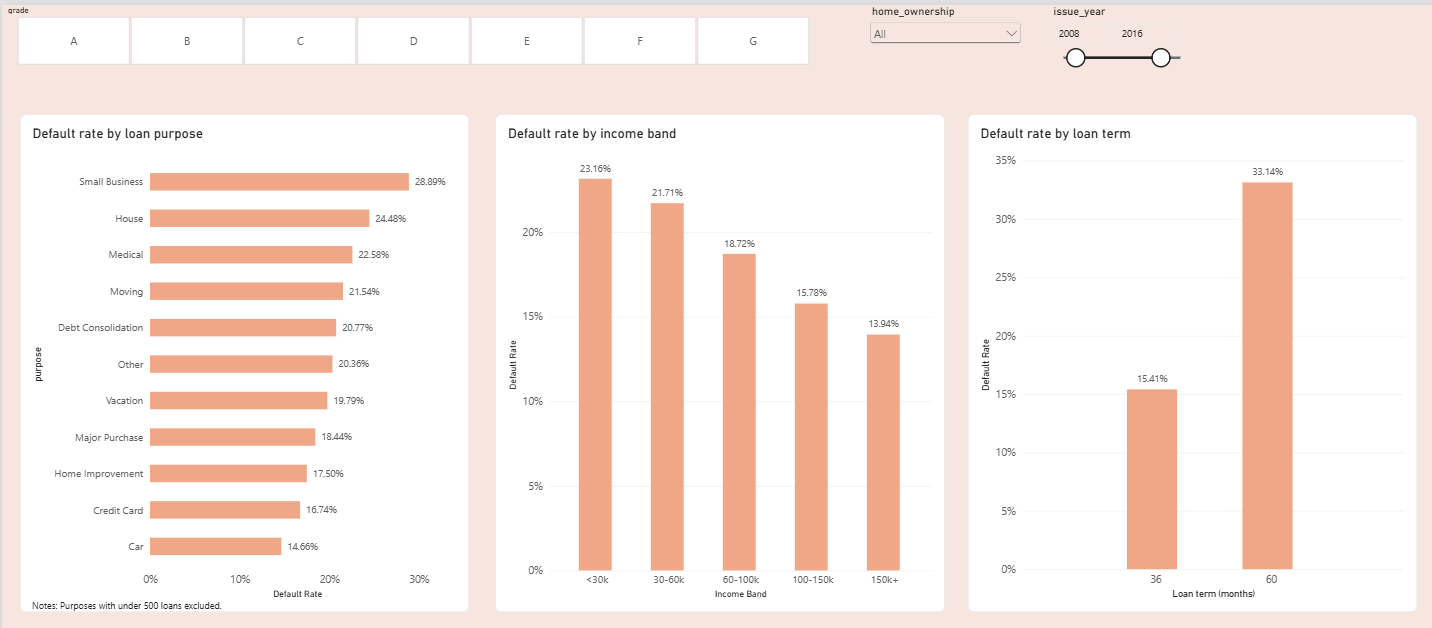

The page's visual inventory and layout, read from the dashboard file:
{"tool":"powerbi","page":{"name":"Who Defaults","canvas":[1920,1080],"ordinal":1},"visuals":[{"type":"clusteredBarChart","title":"Default rate by loan purpose","fields":{"Category":["loans.purpose"],"Y":["loans.Default Rate"]},"box":[23.9,145.5,598.9,663.3],"z":0},{"type":"clusteredColumnChart","title":"Default rate by income band","fields":{"Category":["loans.income_band"],"Y":["loans.Default Rate"]},"box":[658.5,145.5,598.9,663.3],"z":1000},{"type":"clusteredColumnChart","title":"Default rate by loan term","fields":{"Category":["loans.term"],"Y":["loans.Default Rate"]},"box":[1288.4,145.5,598.9,663.3],"z":2000},{"type":"slicer","fields":{"Values":["loans.grade"]},"box":[0,0,1095.1,81.1],"z":3000},{"type":"slicer","fields":{"Values":["loans.issue_year"]},"box":[1393.4,0,195.6,204.4],"z":4000},{"type":"slicer","fields":{"Values":["loans.home_ownership"]},"box":[1152.4,0,211.7,258.3],"z":5000},{"type":"textbox","box":[40.6,789.7,317.1,38.6],"z":6000}]}

Visuals, with their boxes on the page's 1920x1080 design canvas (x1, y1, x2, y2). These are canvas units, not pixel positions in the 1432x628 screenshot, which may show the page scaled, cropped or inside an application window:
"Default rate by loan purpose" clusteredBarChart: [left=24, top=146, right=623, bottom=809]
"Default rate by income band" clusteredColumnChart: [left=658, top=146, right=1257, bottom=809]
"Default rate by loan term" clusteredColumnChart: [left=1288, top=146, right=1887, bottom=809]
slicer - loans.grade: [left=0, top=0, right=1095, bottom=81]
slicer - loans.issue_year: [left=1393, top=0, right=1589, bottom=204]
slicer - loans.home_ownership: [left=1152, top=0, right=1364, bottom=258]
textbox: [left=41, top=790, right=358, bottom=828]
